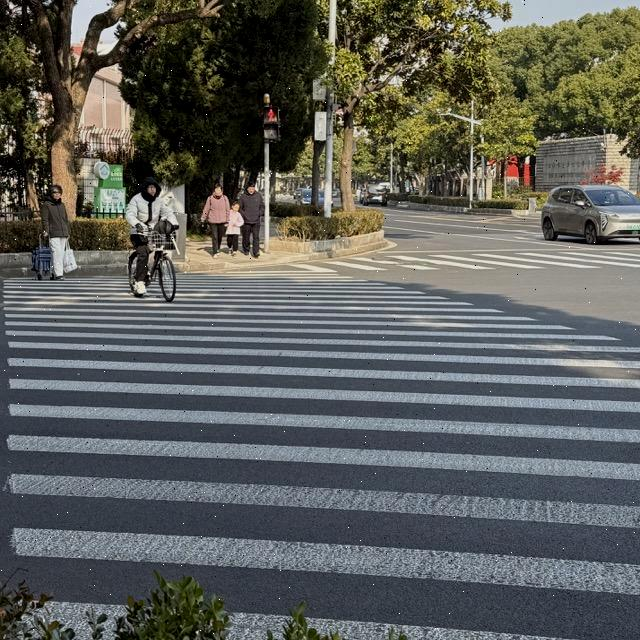curb: (266, 229, 383, 254), (308, 240, 395, 261), (408, 203, 524, 215), (76, 250, 128, 264), (65, 266, 127, 277), (174, 261, 213, 274), (0, 253, 31, 268), (0, 267, 36, 278)
